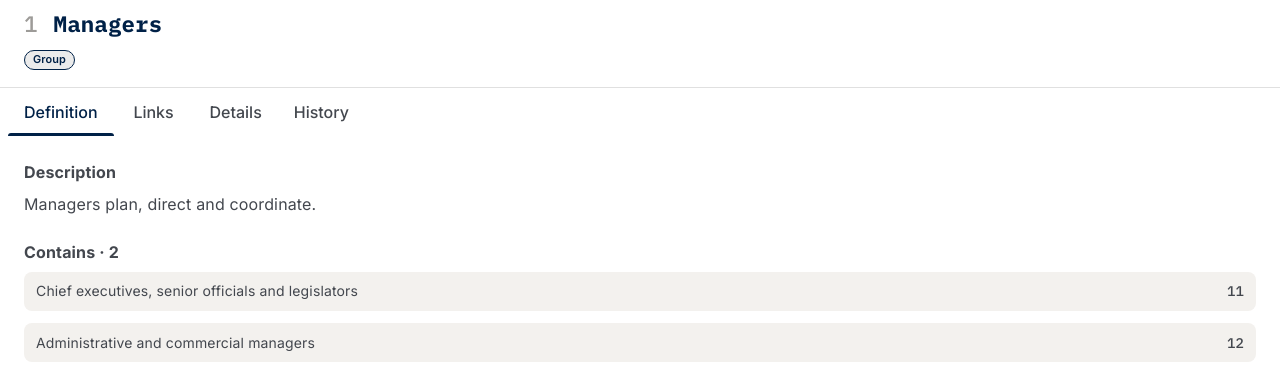
ExplorerDetailPanel › History tab › should show the empty placeholder when there is no history
Click the tab "History" at (321, 112), box [278,88,365,136]
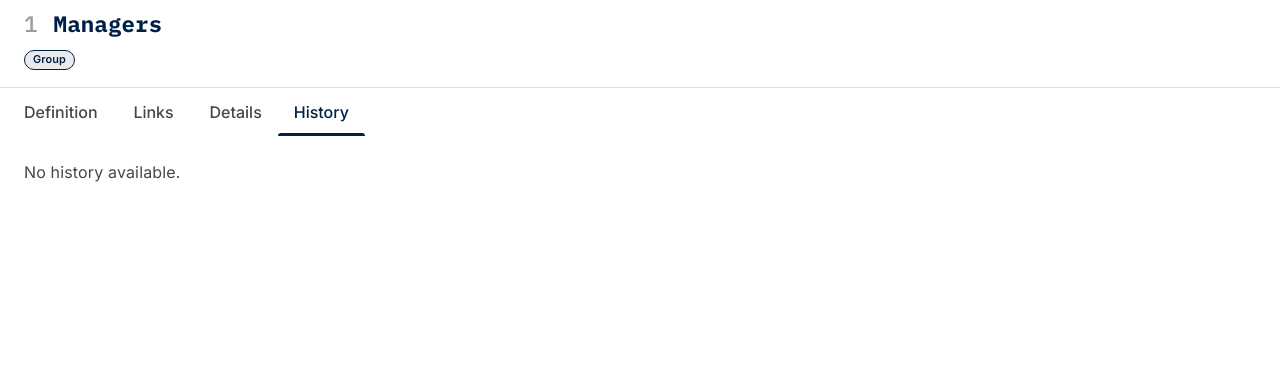
Now the text "No history available." is shown, box [24,162,180,182]
